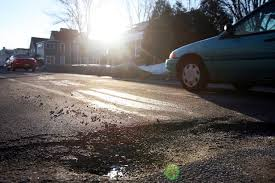pothole: (2, 117, 274, 183)
